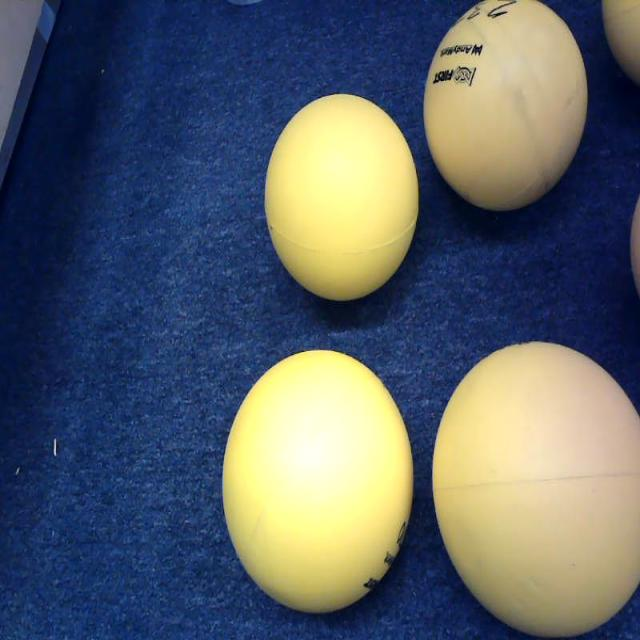Fuel: (430, 338, 640, 640), (222, 350, 415, 617), (422, 0, 590, 214), (264, 91, 420, 301)
